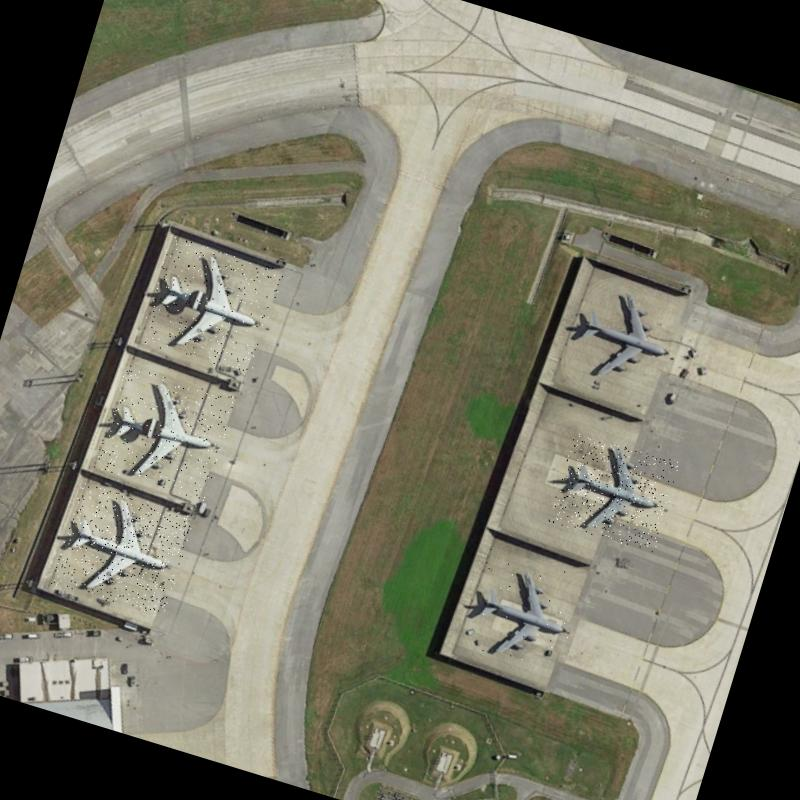A11: (51, 481, 195, 618)
A14: (458, 548, 592, 678), (548, 431, 682, 554), (558, 278, 686, 400)
A7: (138, 236, 284, 376), (94, 364, 236, 502)
